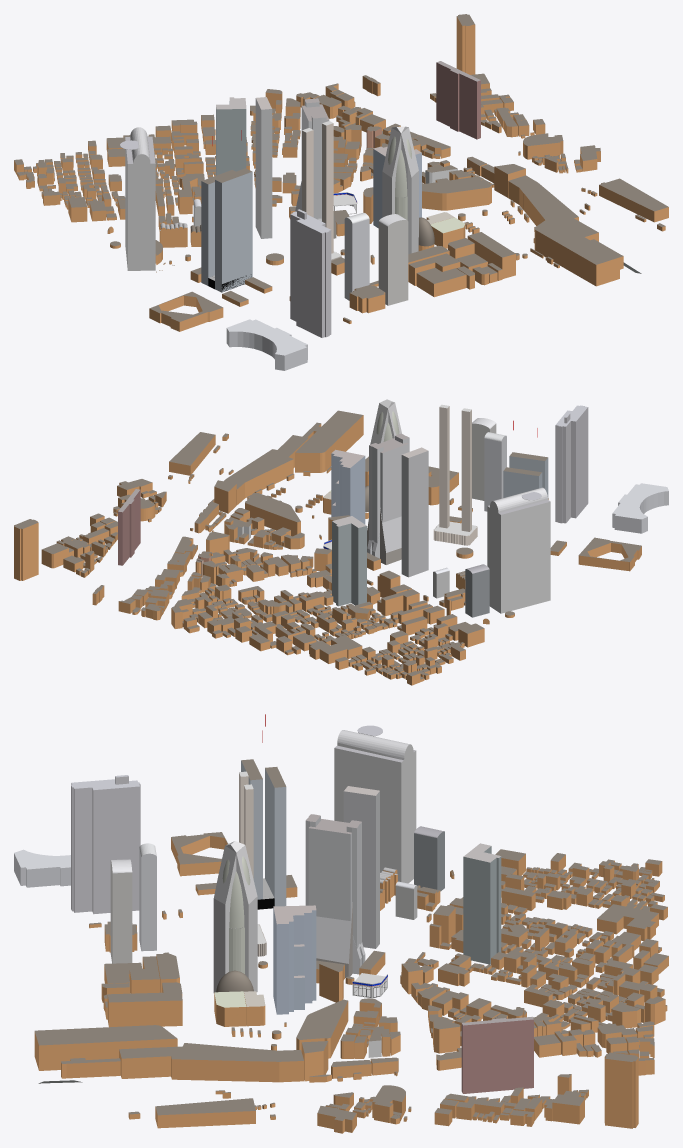
The model's file is map2.glb.
The picture shows the model from 3 angles, top to bottom: view 1: azimuth 30°, elevation 25°; view 2: azimuth 150°, elevation 25°; view 3: azimuth 270°, elevation 25°; orthographic projection. The views are drawn at different scales.
Parts seen in each view (by area): view 1: map_12.osm_buildings; view 2: map_12.osm_buildings; view 3: map_12.osm_buildings, Cube.
Boxes of the visible parts, bbox=[...] form: map_12.osm_buildings: bbox=[14, 14, 668, 370]; map_12.osm_buildings: bbox=[14, 399, 668, 685]; map_12.osm_buildings: bbox=[14, 714, 668, 1133]; Cube: bbox=[352, 973, 387, 998].
Size of the model in its own units: 853 by 242 by 814.
